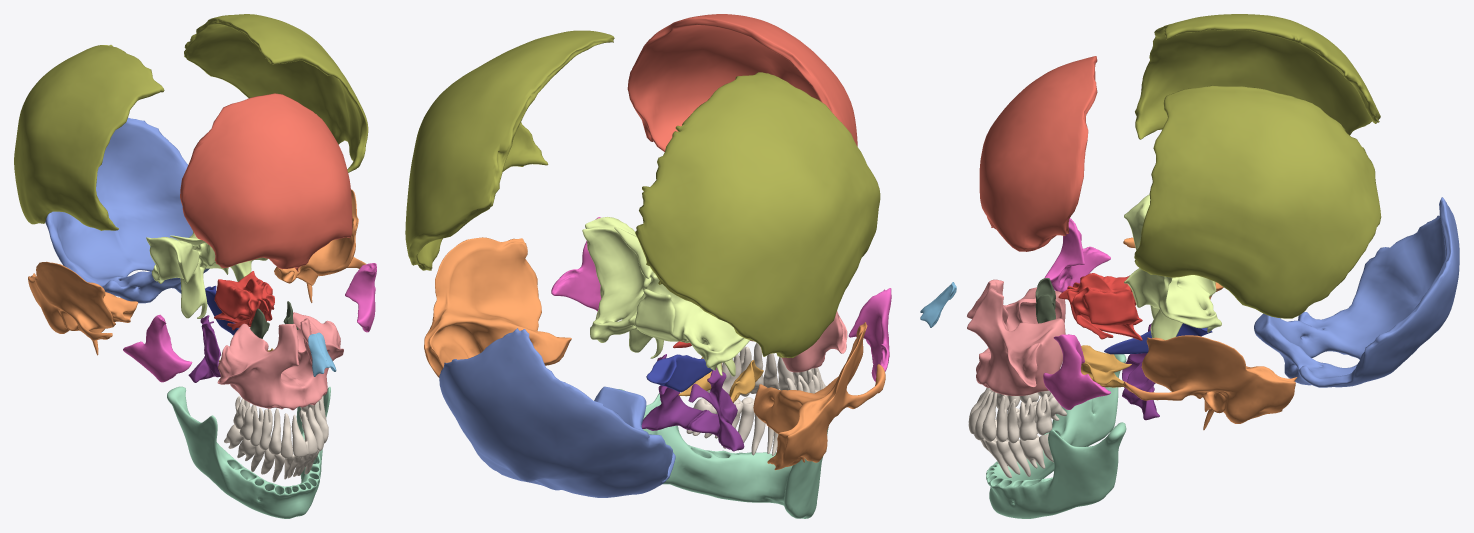
File: exploded-skull.glb
The picture shows the model from 3 angles, left to right: view 1: azimuth 30°, elevation 25°; view 2: azimuth 150°, elevation 25°; view 3: azimuth 270°, elevation 25°; orthographic projection. The views are drawn at different scales.
Parts seen in each view (by area): view 1: Frontal bone, Parietal bone.r, Occipital bone, Parietal bone.l, Maxilla bone, Temporal bones, Mandible bone, Sphenoid bone, Zygomatic bones, Ethmoid Bone, Palatine bone, Upper medial incisors (+7 smaller); view 2: Parietal bone.r, Occipital bone, Parietal bone.l, Temporal bones, Frontal bone, Sphenoid bone, Mandible bone, Palatine bone, Zygomatic bones, Vomer, Maxilla bone, Inferior nasal concha bones; view 3: Parietal bone.l, Occipital bone, Parietal bone.r, Frontal bone, Mandible bone, Temporal bones, Maxilla bone, Sphenoid bone, Zygomatic bones, Ethmoid Bone, Inferior nasal concha bones, Palatine bone (+5 smaller).
Part boxes in pixels (x1=…): Frontal bone: x1=180, y1=93, x2=352, y2=271; Parietal bone.r: x1=14, y1=45, x2=164, y2=230; Occipital bone: x1=45, y1=117, x2=209, y2=303; Parietal bone.l: x1=184, y1=14, x2=368, y2=172; Maxilla bone: x1=217, y1=312, x2=343, y2=410; Temporal bones: x1=28, y1=189, x2=366, y2=355; Mandible bone: x1=167, y1=386, x2=330, y2=518; Sphenoid bone: x1=146, y1=230, x2=267, y2=318; Zygomatic bones: x1=123, y1=263, x2=376, y2=382; Ethmoid Bone: x1=214, y1=271, x2=274, y2=330; Palatine bone: x1=188, y1=315, x2=220, y2=382; Upper medial incisors: x1=291, y1=412, x2=317, y2=457; Parietal bone.r: x1=635, y1=72, x2=880, y2=357; Occipital bone: x1=439, y1=328, x2=675, y2=497; Parietal bone.l: x1=405, y1=30, x2=614, y2=270; Temporal bones: x1=424, y1=237, x2=885, y2=470; Frontal bone: x1=627, y1=14, x2=857, y2=151; Sphenoid bone: x1=582, y1=217, x2=749, y2=376; Mandible bone: x1=618, y1=389, x2=828, y2=518; Palatine bone: x1=641, y1=354, x2=744, y2=451; Zygomatic bones: x1=551, y1=217, x2=891, y2=381; Vomer: x1=646, y1=354, x2=712, y2=392; Maxilla bone: x1=750, y1=311, x2=847, y2=372; Inferior nasal concha bones: x1=678, y1=357, x2=763, y2=402; Parietal bone.l: x1=1134, y1=85, x2=1381, y2=318; Occipital bone: x1=1254, y1=197, x2=1459, y2=387; Parietal bone.r: x1=1135, y1=14, x2=1380, y2=139; Frontal bone: x1=979, y1=56, x2=1097, y2=251; Mandible bone: x1=986, y1=354, x2=1126, y2=518; Temporal bones: x1=1123, y1=237, x2=1297, y2=430; Maxilla bone: x1=967, y1=279, x2=1065, y2=395; Sphenoid bone: x1=1124, y1=194, x2=1221, y2=340; Zygomatic bones: x1=1043, y1=218, x2=1110, y2=409; Ethmoid Bone: x1=1058, y1=273, x2=1142, y2=340; Inferior nasal concha bones: x1=1081, y1=345, x2=1131, y2=387; Palatine bone: x1=1122, y1=323, x2=1159, y2=420.
Bounding box in the file's own units: 0.2285 × 0.2813 × 0.3038.
